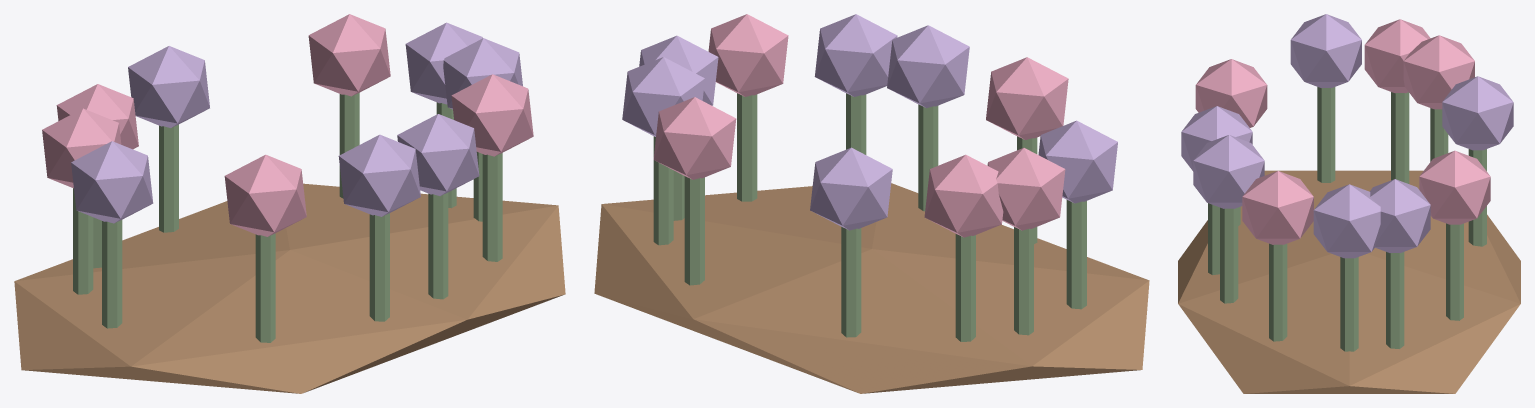
File: flower-patch.glb
3 views of the same model, side by side, from view 1: azimuth 30°, elevation 25°; view 2: azimuth 150°, elevation 25°; view 3: azimuth 270°, elevation 25° (orthographic). The views are drawn at different scales.
Parts seen in each view (by area): view 1: Soil mound, Flower bloom.007, Flower bloom.003, Flower bloom.004, Flower bloom.002, Flower bloom.006, Flower bloom.005, Flower bloom.010, Flower bloom.009, Flower bloom.008, Flower bloom, Flower bloom.001 (+9 smaller); view 2: Soil mound, Flower bloom.002, Flower bloom.006, Flower bloom.003, Flower bloom.007, Flower bloom.010, Flower bloom.001, Flower bloom.005, Flower bloom.009, Flower bloom.004, Flower bloom.008, Flower stem.006 (+10 smaller); view 3: Soil mound, Flower bloom.006, Flower bloom.005, Flower bloom.004, Flower bloom.003, Flower bloom, Flower bloom.010, Flower bloom.001, Flower bloom.007, Flower bloom.008, Flower bloom.009, Flower bloom.002 (+10 smaller).
Boxes of the visible parts, x1,y1,x2,y2 form: Soil mound: (14, 183, 565, 393); Flower bloom.007: (224, 154, 306, 236); Flower bloom.003: (308, 14, 390, 96); Flower bloom.004: (71, 141, 153, 223); Flower bloom.002: (338, 134, 420, 216); Flower bloom.006: (128, 46, 209, 127); Flower bloom.005: (451, 74, 533, 156); Flower bloom.010: (397, 114, 479, 195); Flower bloom.009: (42, 108, 121, 188); Flower bloom.008: (405, 22, 482, 104); Flower bloom: (443, 38, 522, 109); Flower bloom.001: (56, 84, 138, 149); Soil mound: (594, 183, 1149, 393); Flower bloom.002: (887, 25, 969, 108); Flower bloom.006: (810, 147, 892, 230); Flower bloom.003: (653, 97, 736, 179); Flower bloom.007: (986, 57, 1068, 139); Flower bloom.010: (814, 14, 897, 96); Flower bloom.001: (924, 154, 1003, 237); Flower bloom.005: (708, 14, 788, 96); Flower bloom.009: (987, 148, 1065, 230); Flower bloom.004: (1038, 120, 1117, 203); Flower bloom.008: (622, 57, 704, 136); Flower stem.006: (841, 227, 861, 337); Soil mound: (1178, 170, 1520, 393); Flower bloom.006: (1442, 76, 1513, 150); Flower bloom.005: (1242, 171, 1313, 244); Flower bloom.004: (1290, 14, 1361, 87); Flower bloom.003: (1419, 150, 1490, 224); Flower bloom: (1313, 184, 1380, 258); Flower bloom.010: (1193, 135, 1264, 208); Flower bloom.001: (1403, 35, 1474, 109); Flower bloom.007: (1195, 59, 1267, 127); Flower bloom.008: (1370, 179, 1430, 252); Flower bloom.009: (1364, 19, 1430, 93); Flower bloom.002: (1181, 106, 1252, 171).
Size of the model in its own units: 1.61 by 0.688 by 0.9799.
